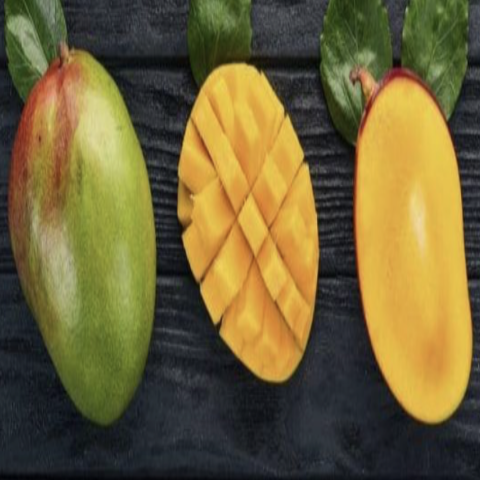mango: (3, 28, 164, 443), (169, 60, 322, 439), (339, 47, 479, 433)
